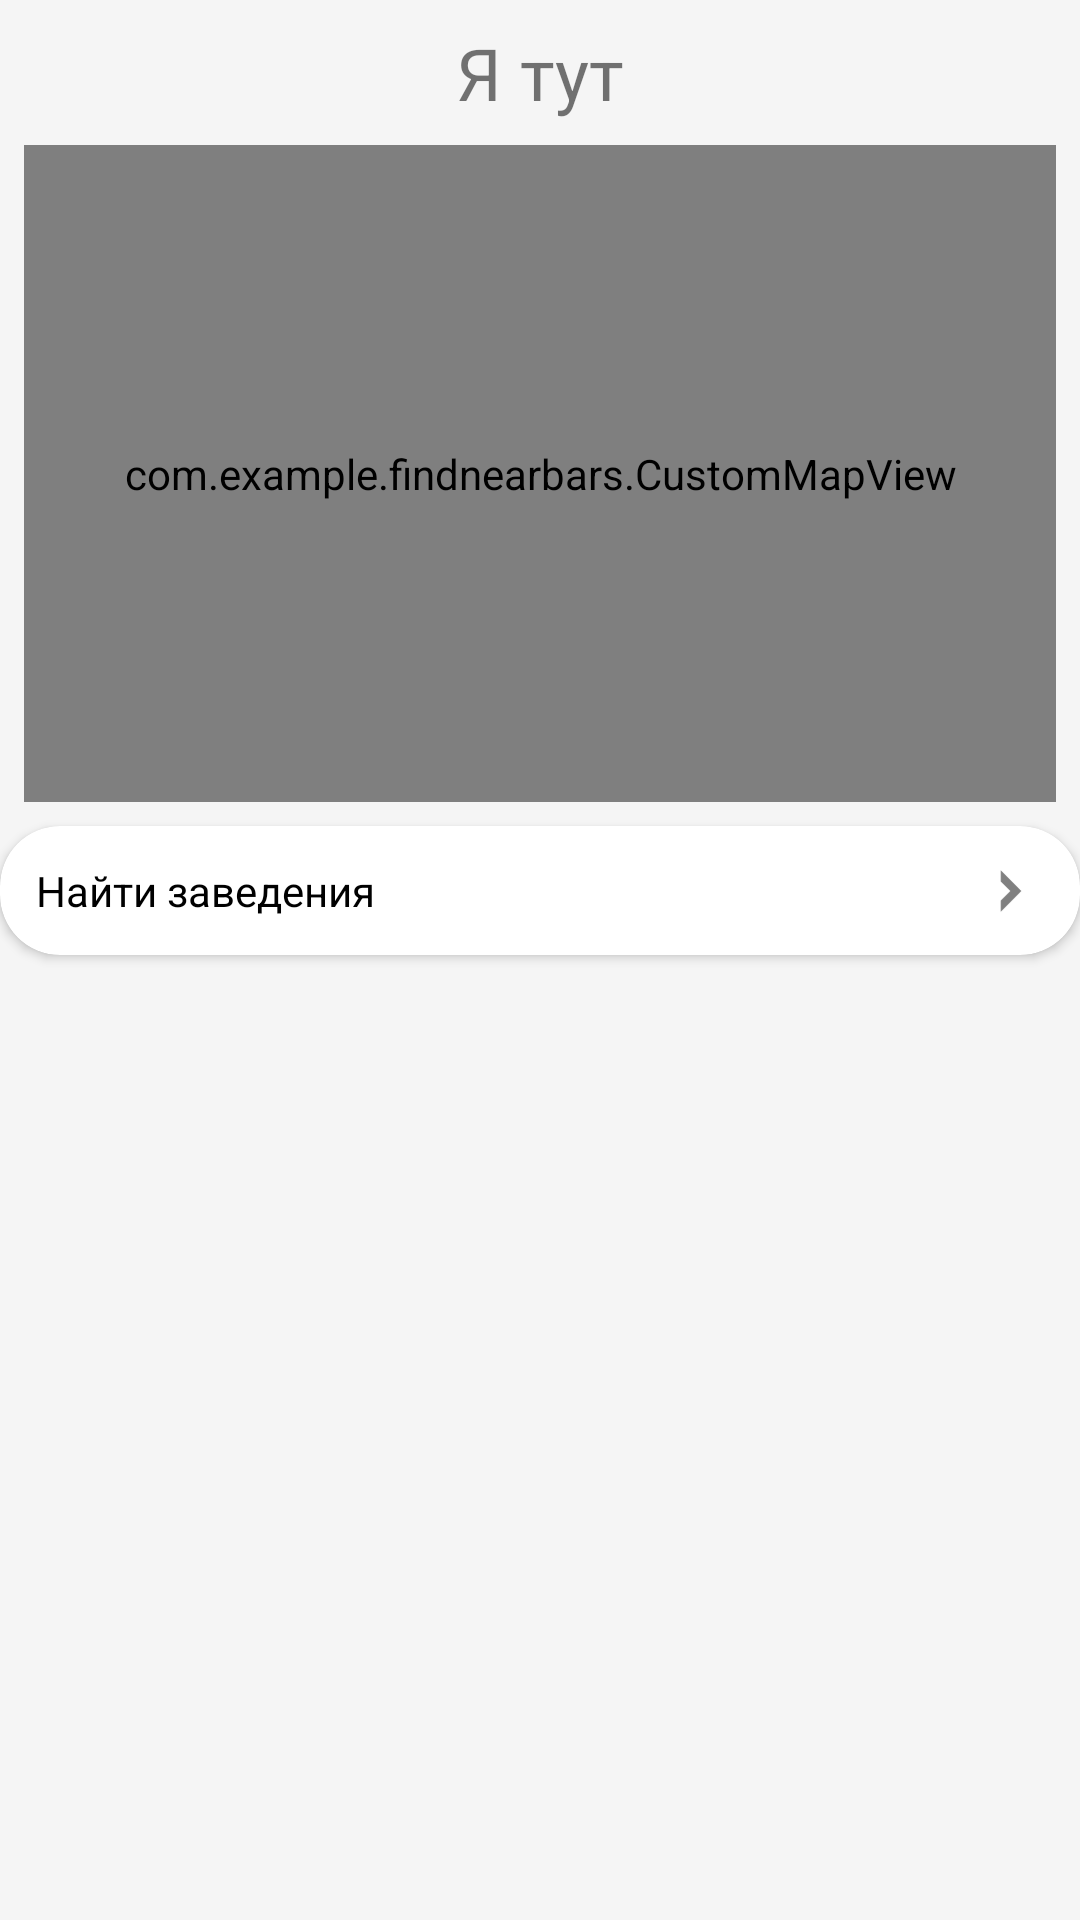

Locate icon controls on the screen. Image size 1080px×1920px, boxes as (x1, y1, x2, y2).
иконка знака больше: (1000, 871, 1021, 911)
